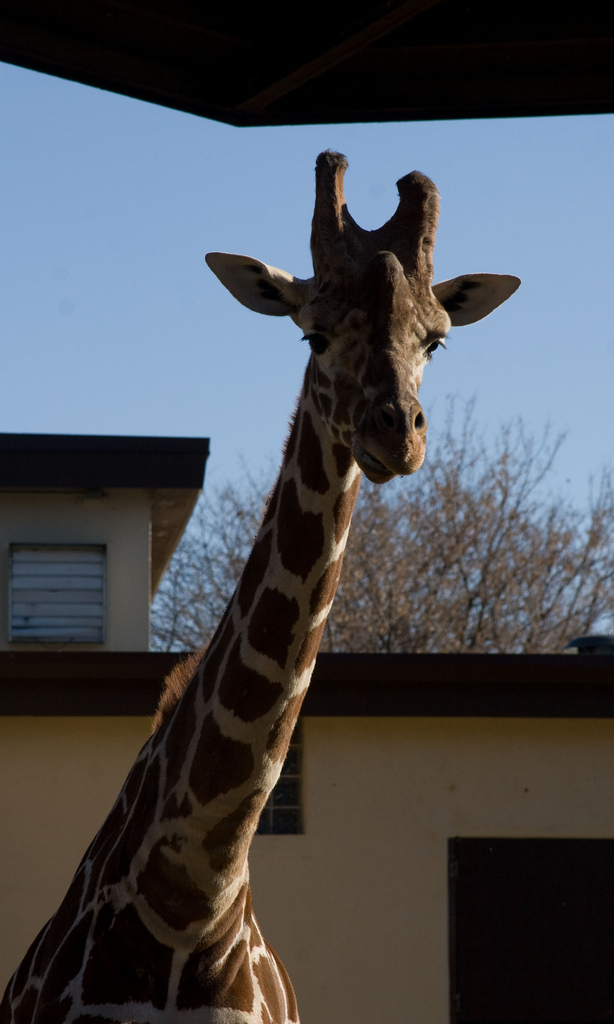giraffe: (48, 154, 540, 982)
